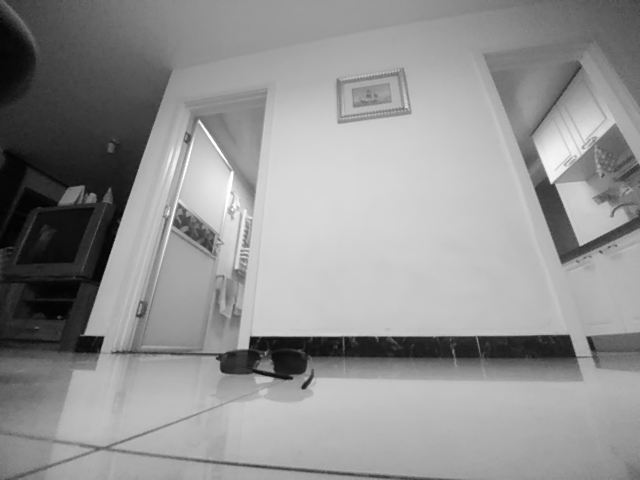others: (216, 345, 316, 393)
